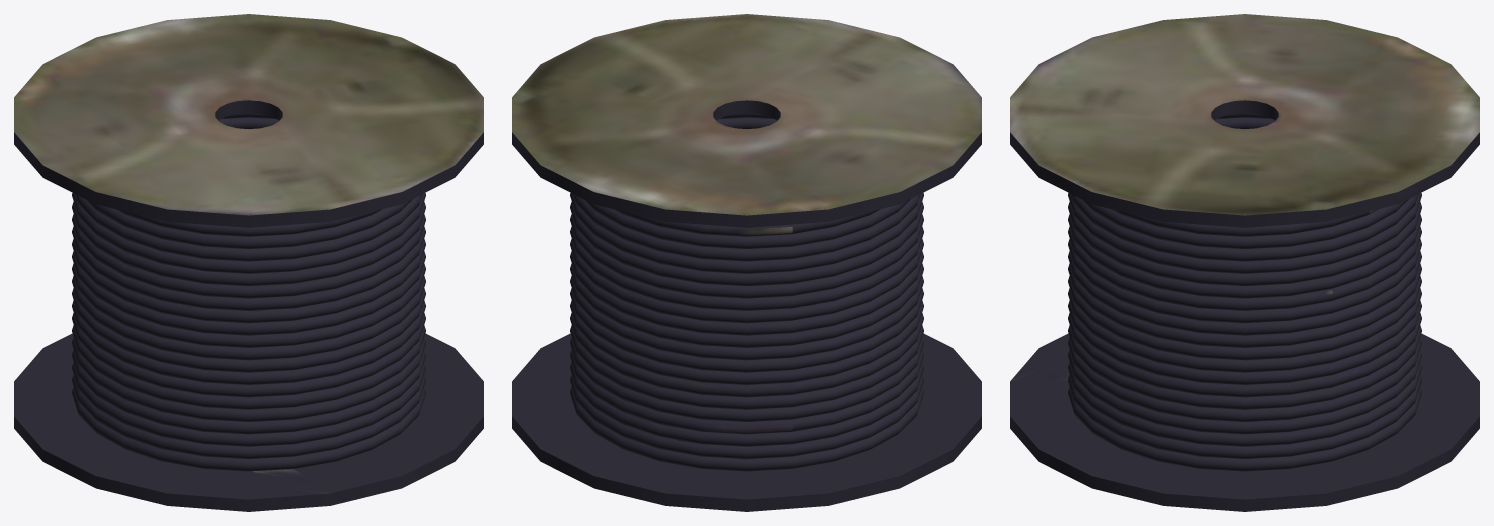
Rendered from Coil.FBX.
3 views of the same model, side by side, from view 1: azimuth 30°, elevation 25°; view 2: azimuth 150°, elevation 25°; view 3: azimuth 270°, elevation 25° (orthographic).
Parts seen in each view (by area): view 1: Cylinder001; view 2: Cylinder001; view 3: Cylinder001.
Boxes of the visible parts, x1=… form: Cylinder001: x1=14, y1=14, x2=483, y2=511; Cylinder001: x1=512, y1=14, x2=981, y2=511; Cylinder001: x1=1010, y1=14, x2=1479, y2=511.
Bounding box in the file's own units: 70 × 48 × 68.94.
